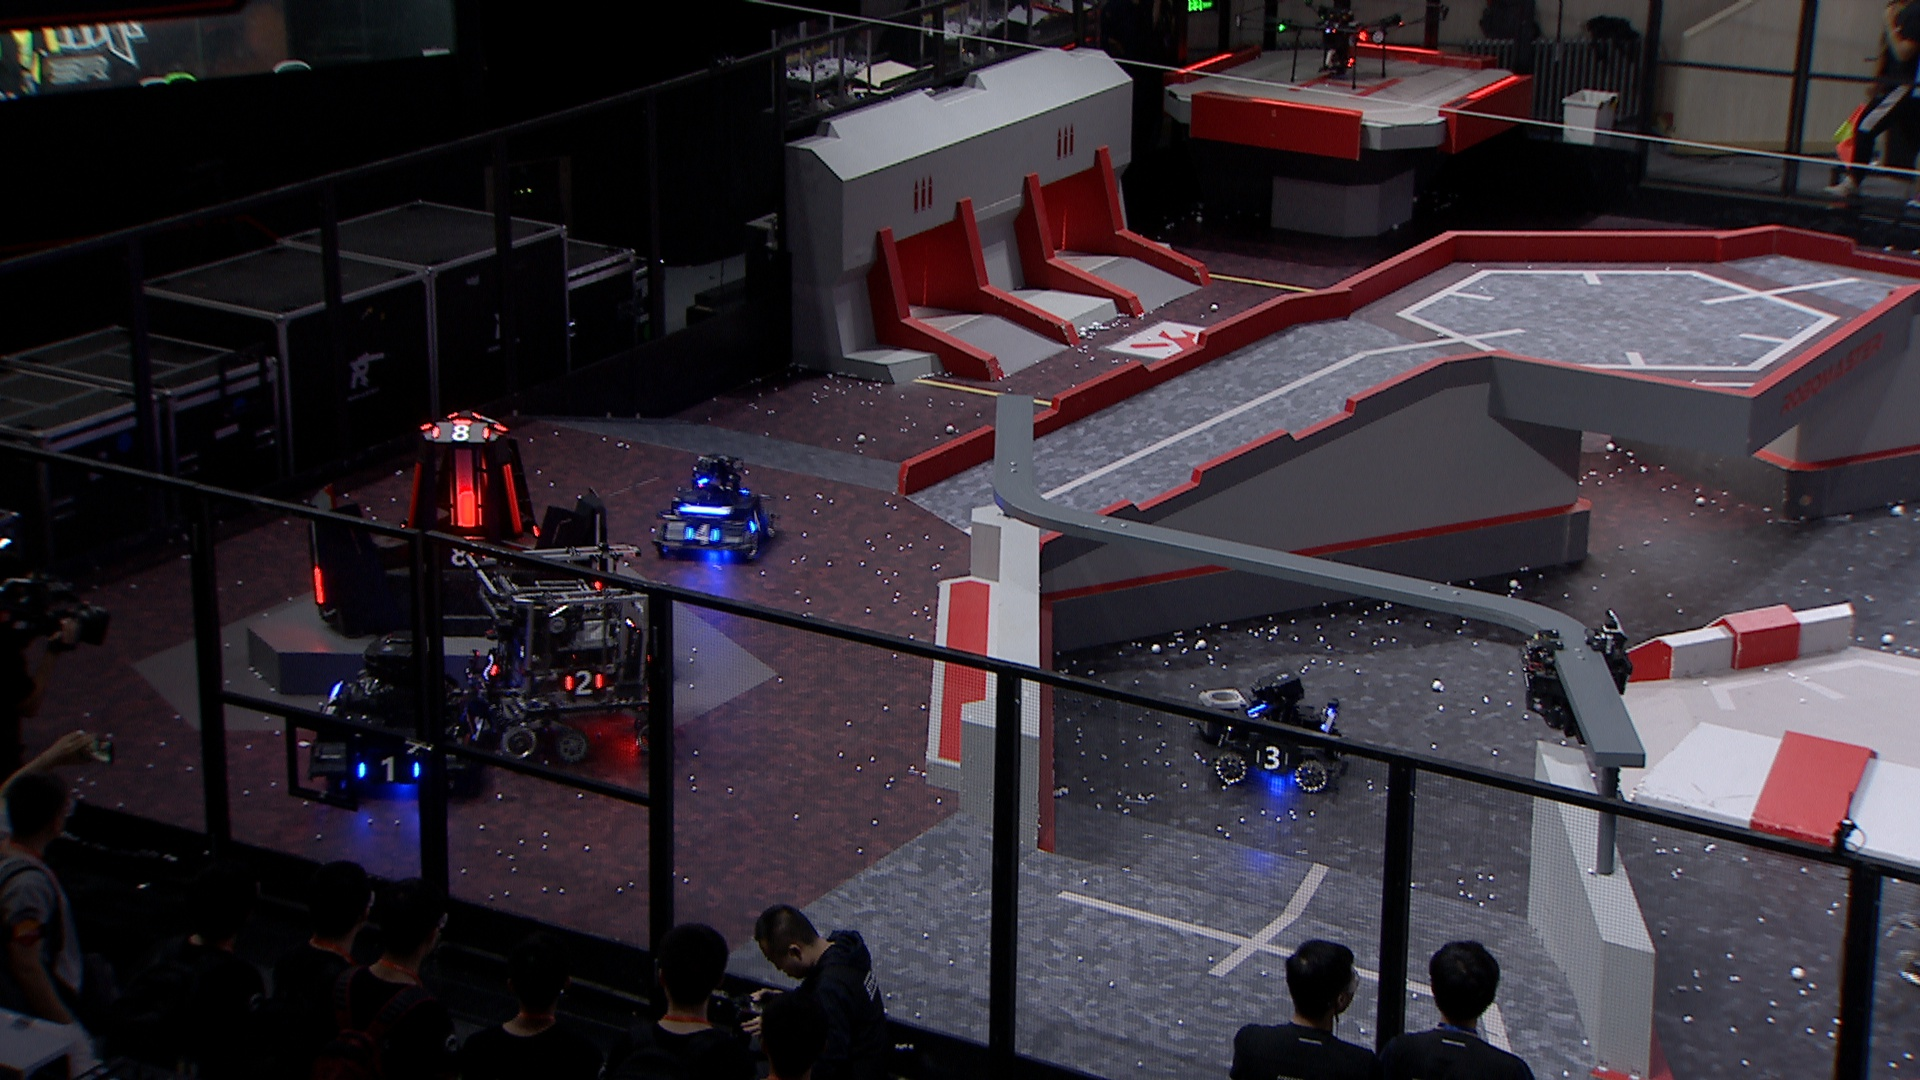armor: (448, 462, 483, 535), (353, 752, 425, 785), (400, 458, 429, 529), (429, 533, 483, 570), (496, 463, 527, 524), (429, 419, 491, 446), (560, 666, 608, 698), (1250, 740, 1292, 773), (473, 647, 504, 684), (683, 522, 723, 547), (744, 508, 770, 537), (311, 566, 328, 608)
base: (299, 406, 613, 637)
car: (444, 529, 669, 764), (309, 626, 483, 799), (1201, 666, 1352, 796), (655, 447, 775, 562)
watcher: (1518, 608, 1633, 745)
